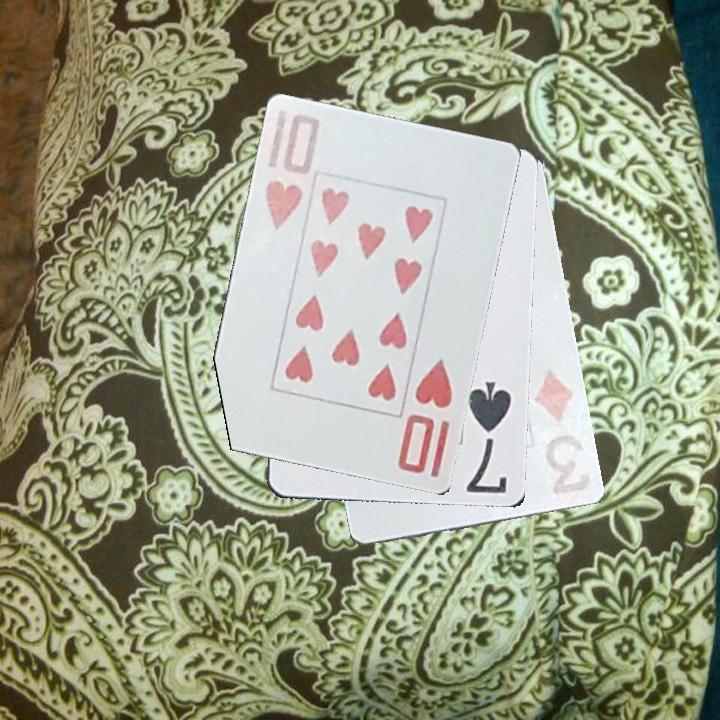3d: (525, 366, 594, 503)
7s: (463, 378, 515, 497)
Th: (261, 107, 323, 235), (394, 355, 456, 478)
